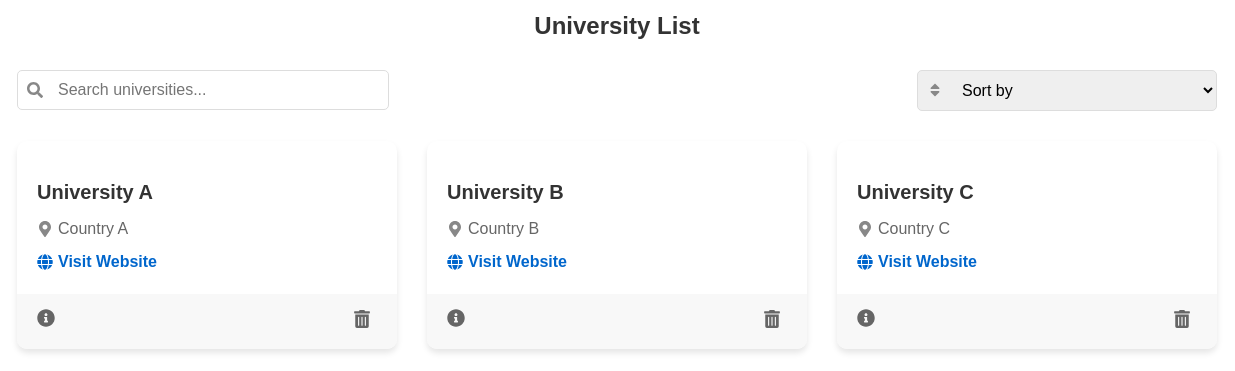
Scenario: UniversityList › filters universities based on search term
Type "University A" into the field with placeholder "Search universities..." at (203, 90), box [17,70,389,110]
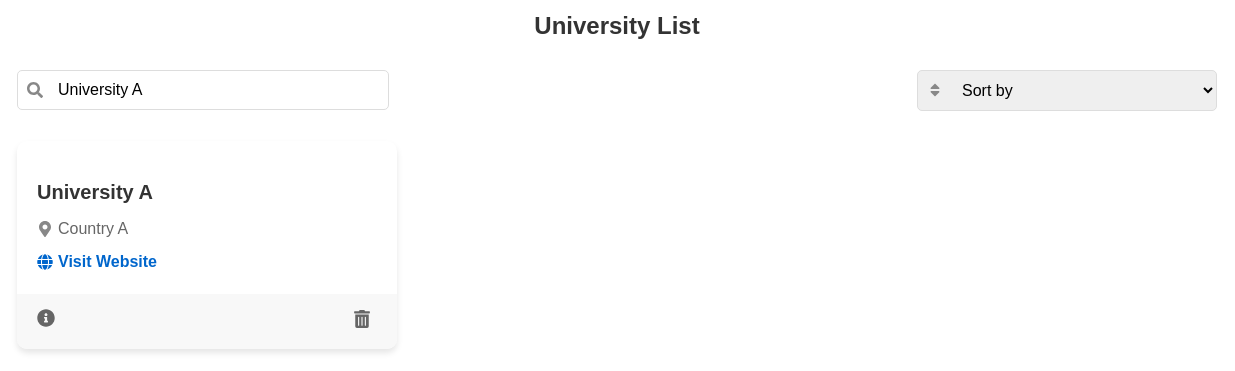
Expected: the heading "University A" is shown, [37,181,153,203]
Expected: the heading "University B" is gone
